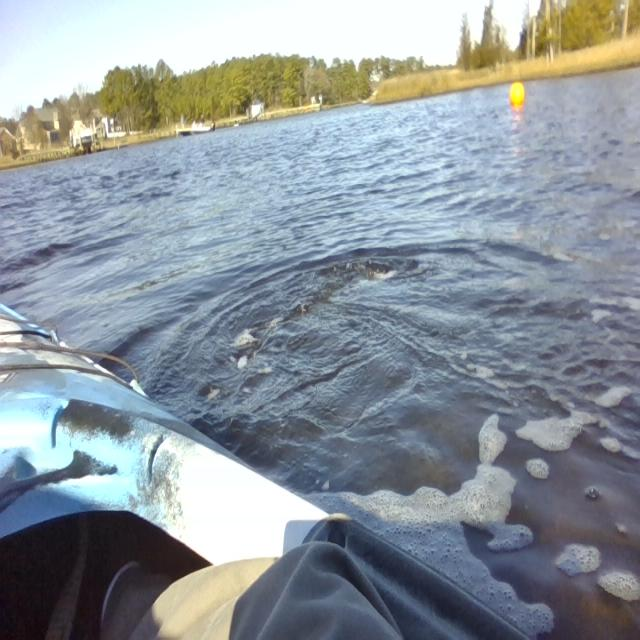Buoy: (502, 78, 526, 112)
